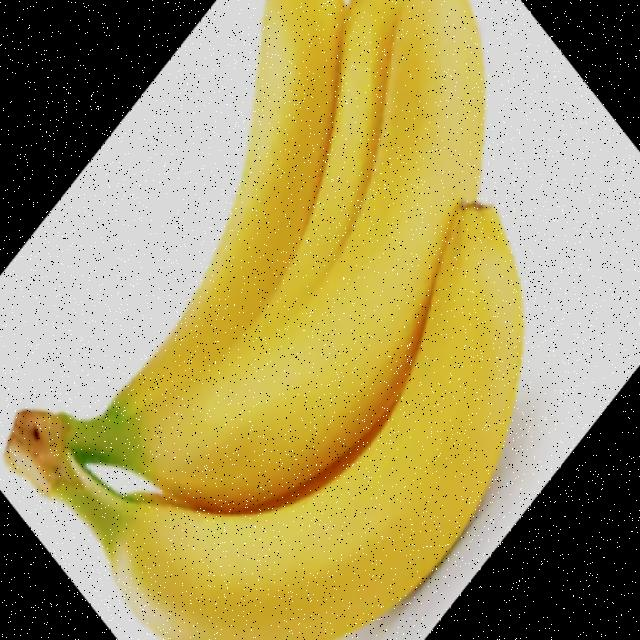god quality banana: (4, 1, 524, 639)
